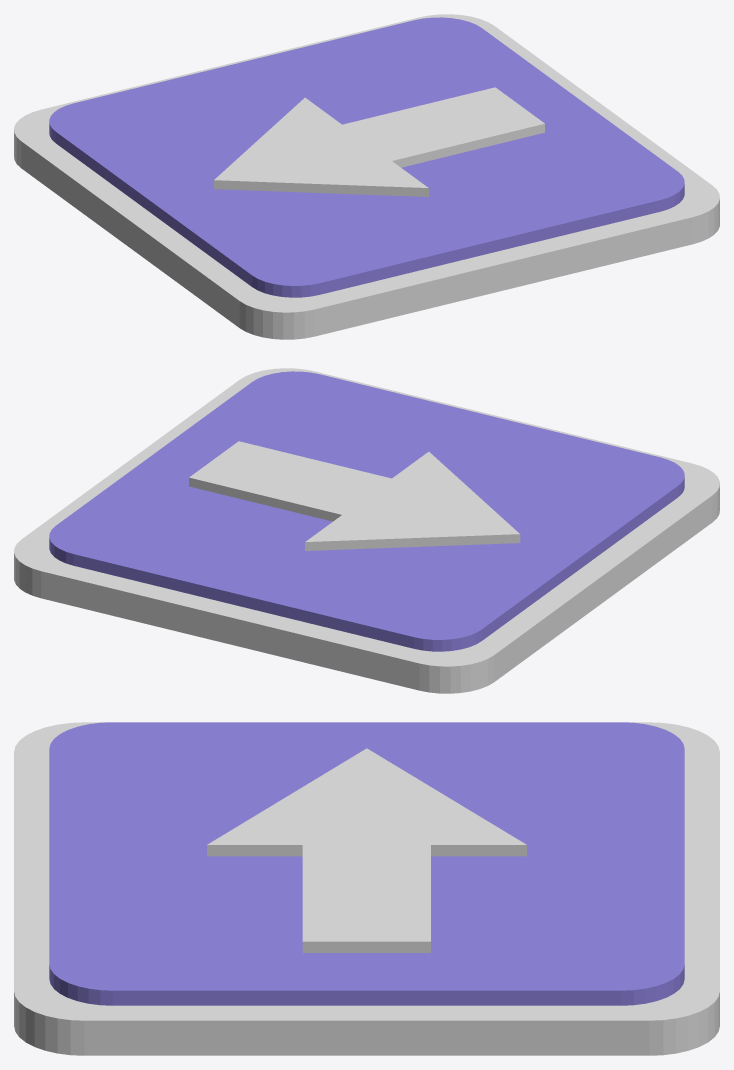
Rendered from PadType01.fbx.
3 views of the same model, one above another, from view 1: azimuth 30°, elevation 25°; view 2: azimuth 150°, elevation 25°; view 3: azimuth 270°, elevation 25° (orthographic). The views are drawn at different scales.
Parts seen in each view (by area): view 1: Cube.002, Cube.001, Plane; view 2: Cube.002, Cube.001, Plane; view 3: Cube.002, Cube.001, Plane.
Part boxes in pixels (x1=…): Cube.002: x1=49, y1=17, x2=684, y2=297; Cube.001: x1=14, y1=14, x2=719, y2=339; Plane: x1=214, y1=87, x2=544, y2=196; Cube.002: x1=49, y1=371, x2=684, y2=651; Cube.001: x1=14, y1=368, x2=719, y2=693; Plane: x1=189, y1=441, x2=520, y2=550; Cube.002: x1=49, y1=722, x2=684, y2=1005; Cube.001: x1=14, y1=722, x2=719, y2=1055; Plane: x1=207, y1=748, x2=526, y2=952.
Bounding box in the file's own units: 200 × 19.3 × 200.
